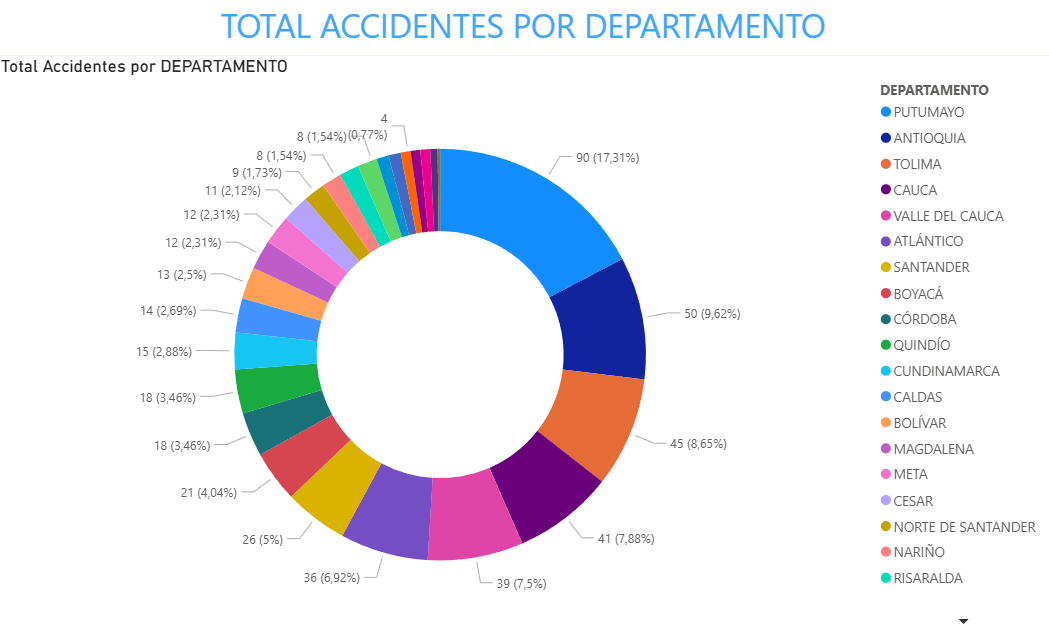

This screenshot's page, from the dashboard's own definition file:
{"tool":"powerbi","page":{"name":"PREGUNTA 2","canvas":[1280,720],"ordinal":1},"visuals":[{"type":"donutChart","fields":{"Category":["AccidentesElectricos_Limpio.DEPARTAMENTO"],"Y":["AccidentesElectricos_Limpio.Total Accidentes"]},"box":[140.6,116.2,1032.1,566.2],"z":0},{"type":"textbox","box":[140.6,59.9,1032.1,56.3],"z":1000}]}

Visuals, with their boxes on the page's 1280x720 design canvas (x1, y1, x2, y2). These are canvas units, not pixel positions in the 1049x627 screenshot, which may show the page scaled, cropped or inside an application window:
donutChart - AccidentesElectricos_Limpio.DEPARTAMENTO x AccidentesElectricos_Limpio.Total Accidentes: [left=141, top=116, right=1173, bottom=682]
textbox: [left=141, top=60, right=1173, bottom=116]
